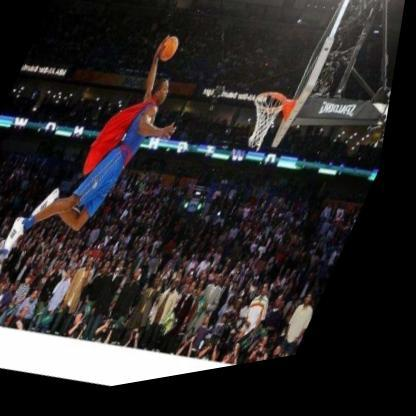basketball: (159, 40, 184, 71)
rim: (238, 96, 294, 166)
